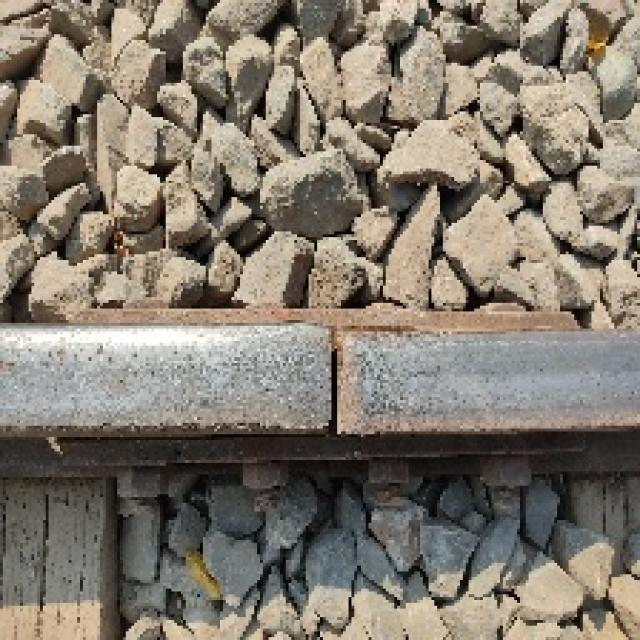Good Joint: (63, 297, 580, 495)
